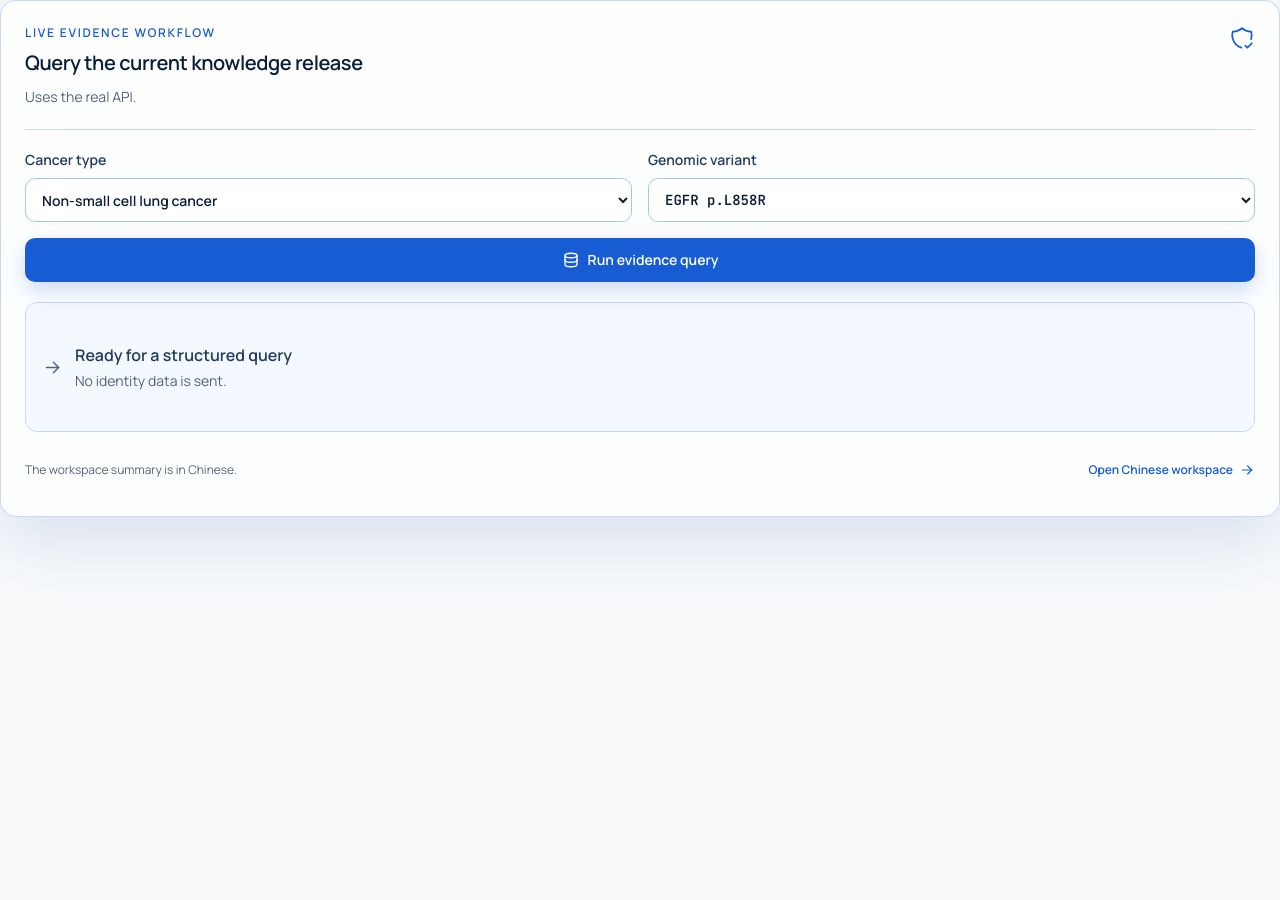
Test: LandingEvidenceDemo › submits a supported query and renders only data returned by the real API
Expected: the text "Ready for a structured query" is shown, [75,343,292,367]
Click the button "Run evidence query" at (640, 260), box [25,238,1255,282]
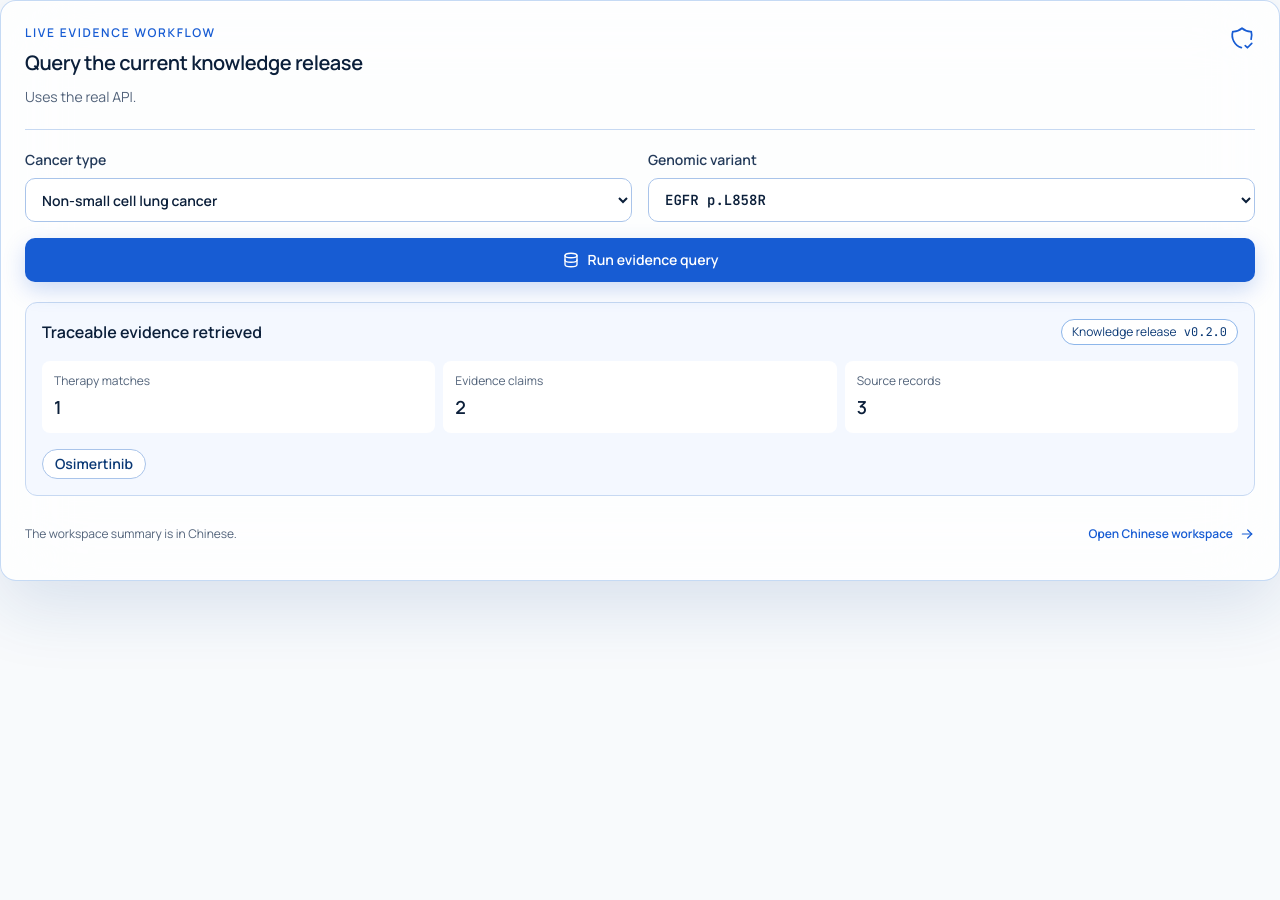
Expected: the text "Traceable evidence retrieved" is shown, [42,320,262,344]
Expected: the text "Osimertinib" is shown, [42,449,146,479]
Expected: the text "1" is shown, [54,395,62,419]
